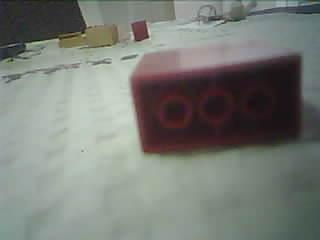lego: (128, 39, 304, 157), (84, 24, 119, 46), (128, 18, 150, 42), (57, 31, 86, 48)
